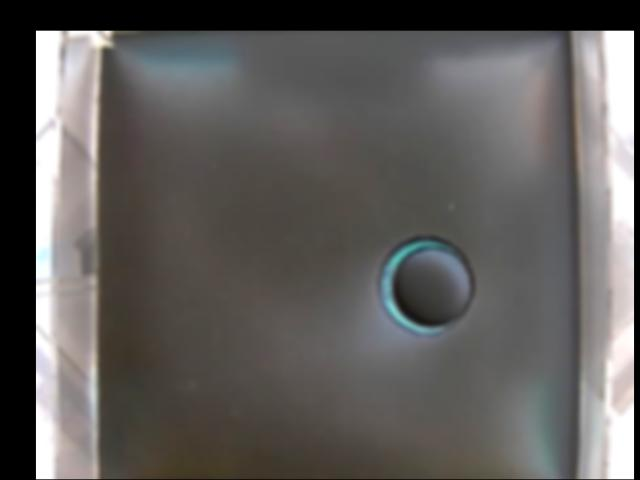Cup: (377, 233, 477, 336)
